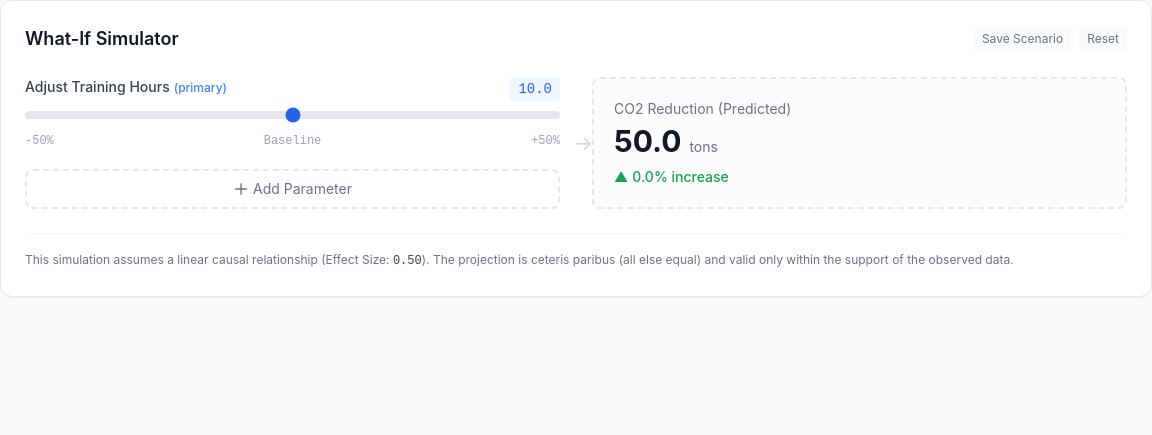
Scenario: InterventionSimulator › adds a new parameter and renders its slider
Click the button with test id "add-parameter-btn". click: (292,189)
box: [25,169,560,209]
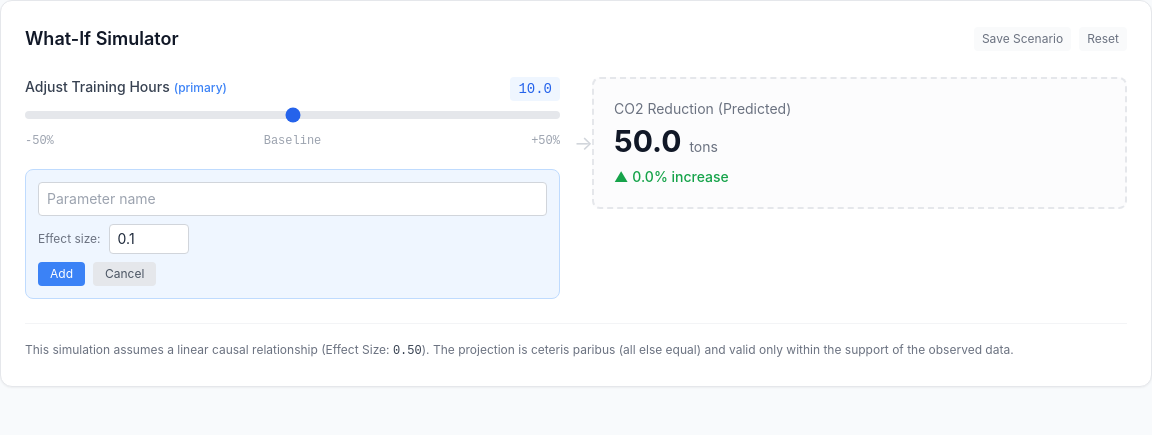
Type "Fuel Cost" into the field with test id "new-param-name". click: (292,199)
box: [38,182,547,216]
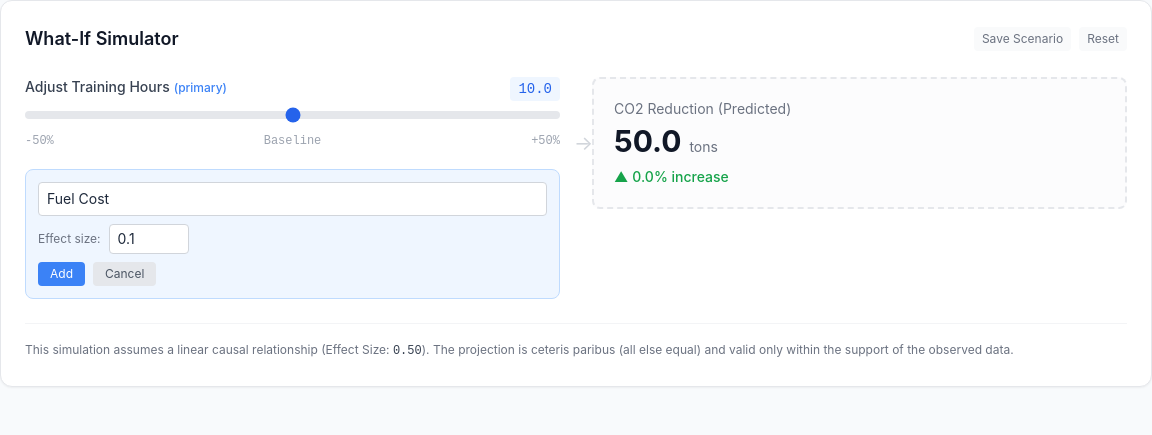
Click the button with test id "confirm-add-param". click: (62,274)
box: [38,262,85,286]
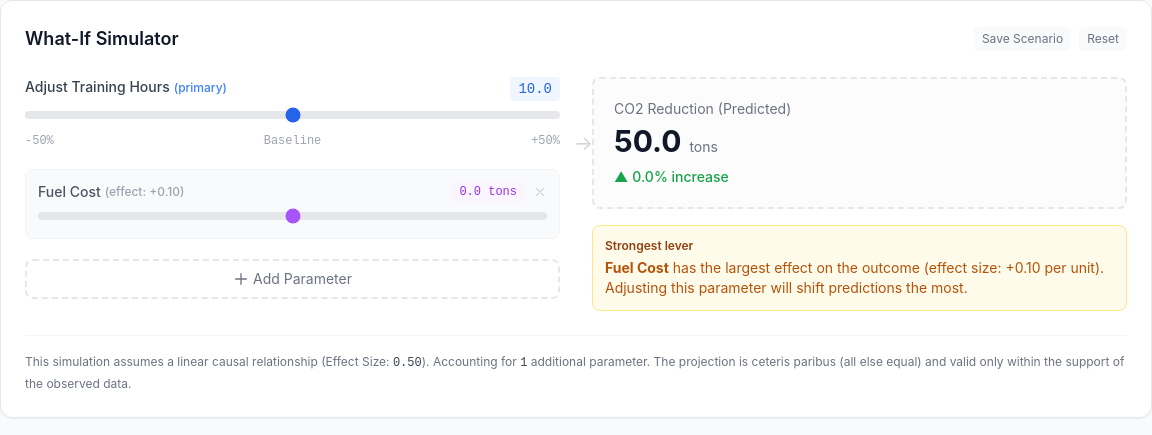
Check: the element with test id "confounder-Fuel Cost" is shown, box [25,169,560,239]
